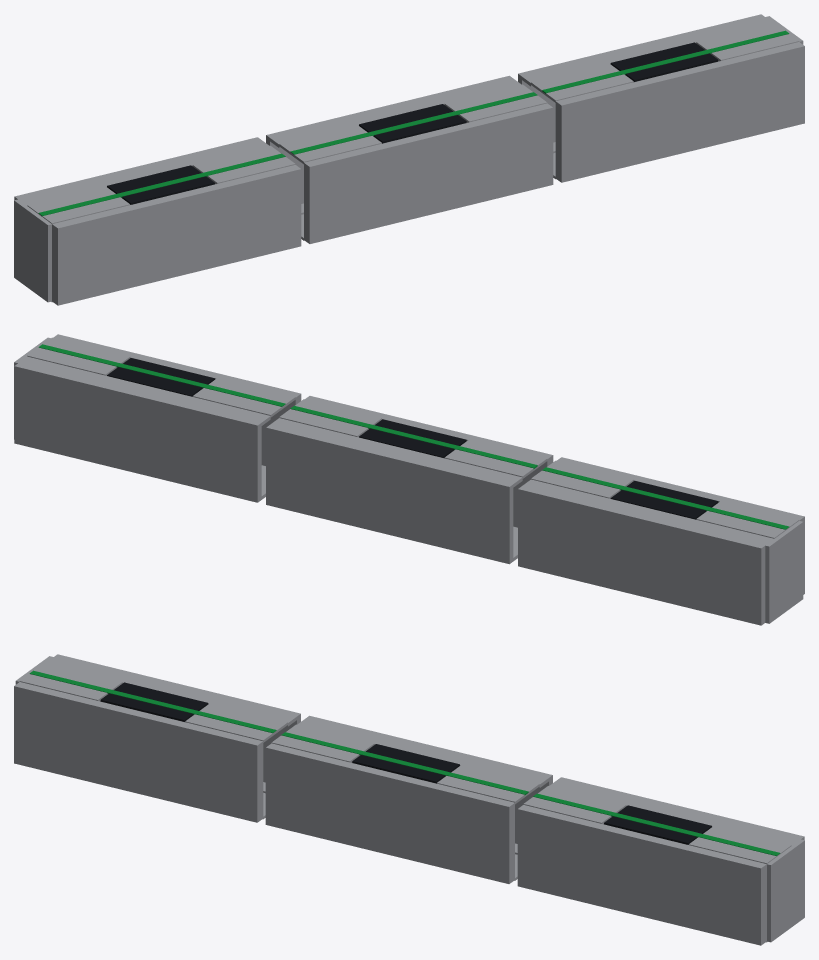
File: metro_train_green_closed.obj
The picture shows the model from 3 angles, top to bottom: view 1: azimuth 30°, elevation 25°; view 2: azimuth 150°, elevation 25°; view 3: azimuth 330°, elevation 25°; orthographic projection.
Parts seen in each view (by area): view 1: metro_train_green_closed; view 2: metro_train_green_closed; view 3: metro_train_green_closed.
Boxes of the visible parts, box(x1,y1,x2,y2) form: metro_train_green_closed: box(14, 14, 804, 305); metro_train_green_closed: box(14, 334, 804, 625); metro_train_green_closed: box(14, 654, 804, 945).
Bounding box in the file's own units: 9 × 0.91 × 0.9.
